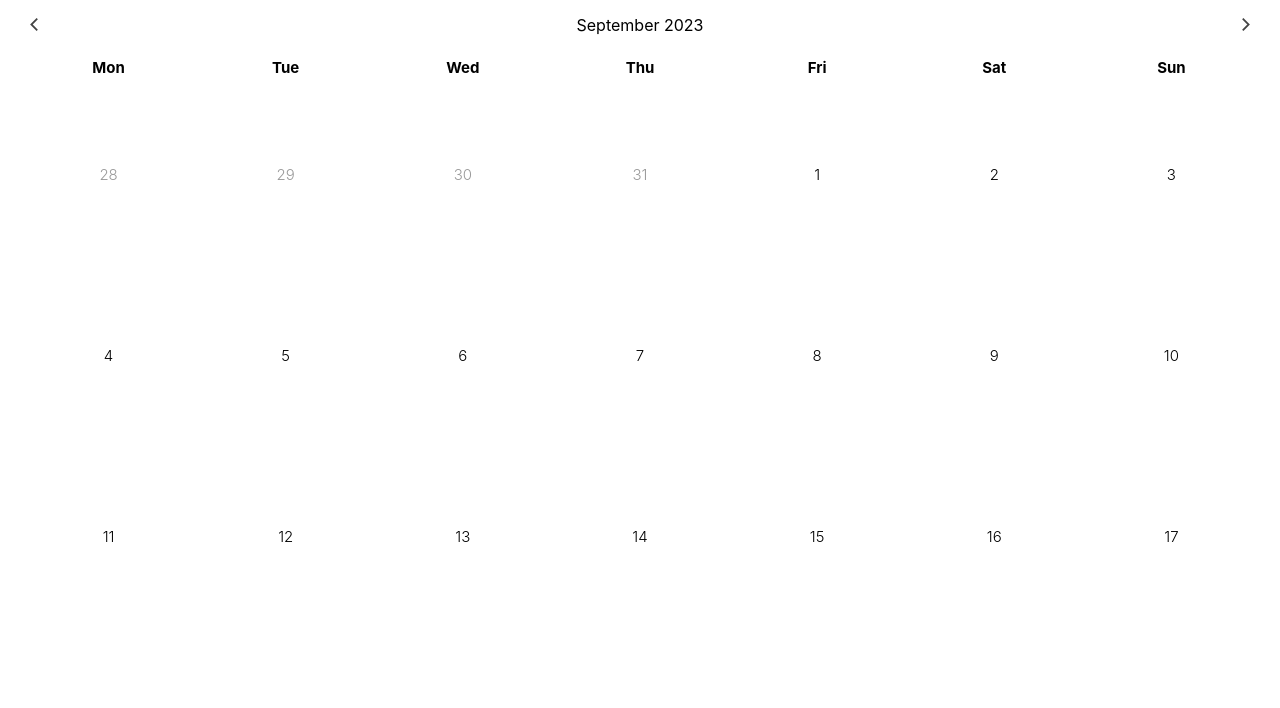
Test: Datetime Calendar › Clicking on next month should change month value
Click the element with class "navigation--next" at (1246, 24), box [1242,18,1250,31]
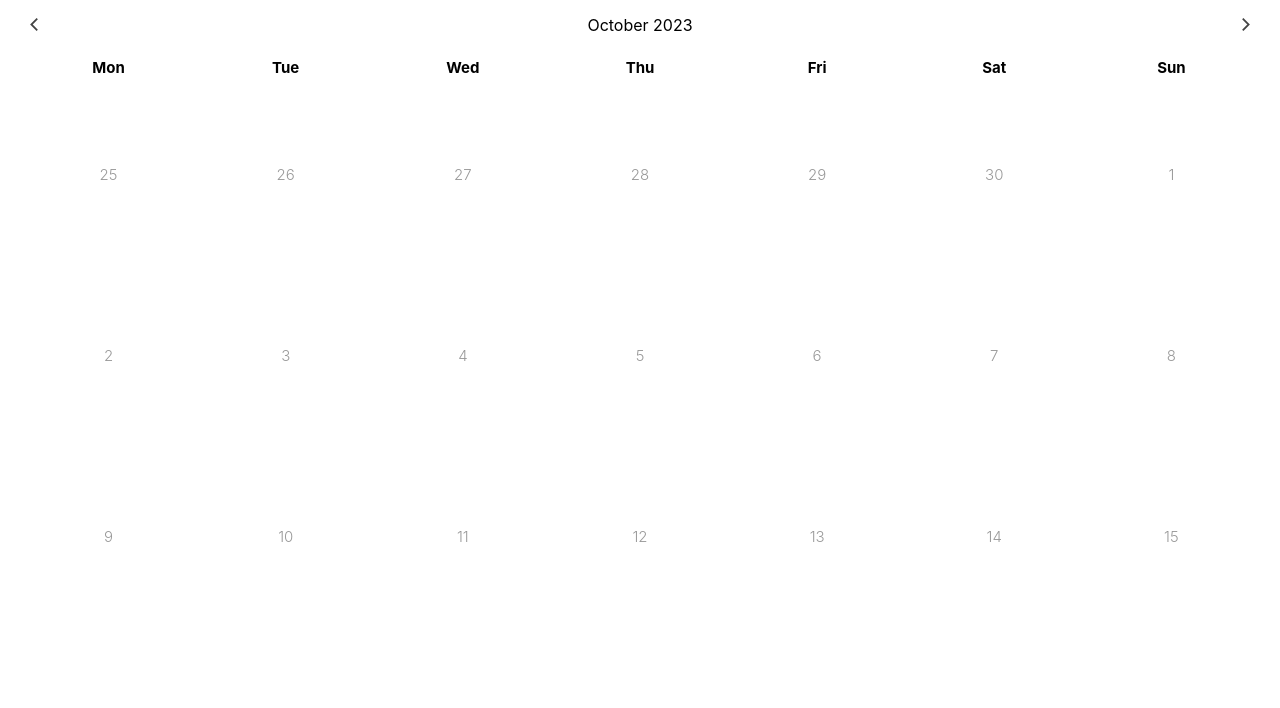
Expected: the text with class "current--month" reads "October 2023", [587,15,693,35]
